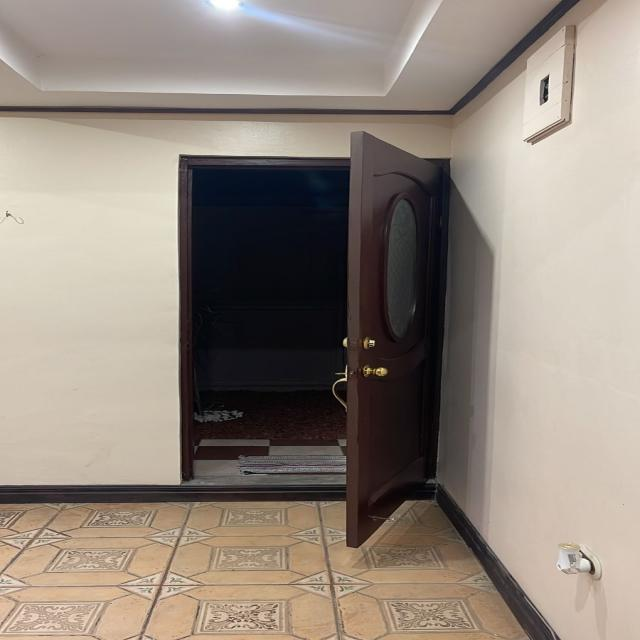OpenDoor: (169, 136, 455, 549)
